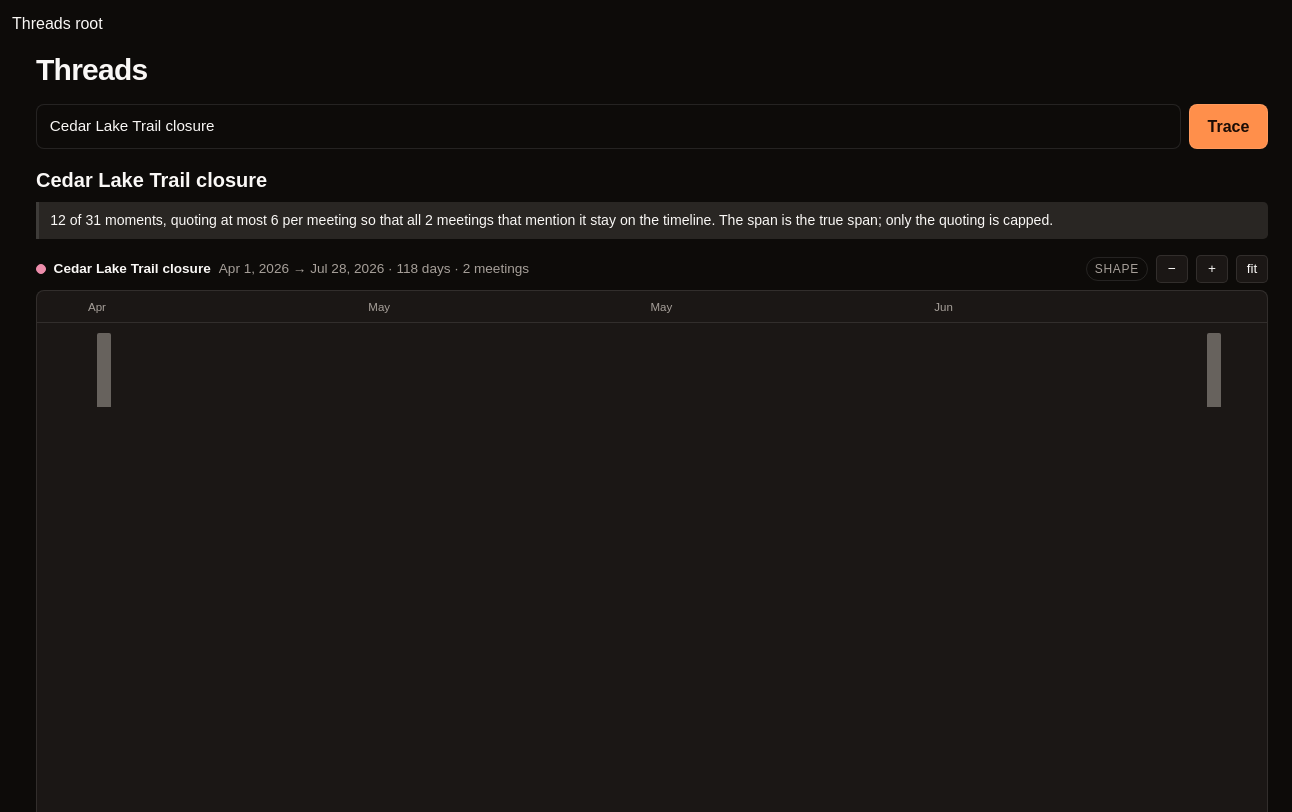
it: the two ways in › returns to the empty front door from a deep-linked subject
Expected: the text "12 of 31 moments" is shown, [50, 212, 1053, 228]
Click the link "Threads root": click(57, 24) [12, 15, 103, 32]
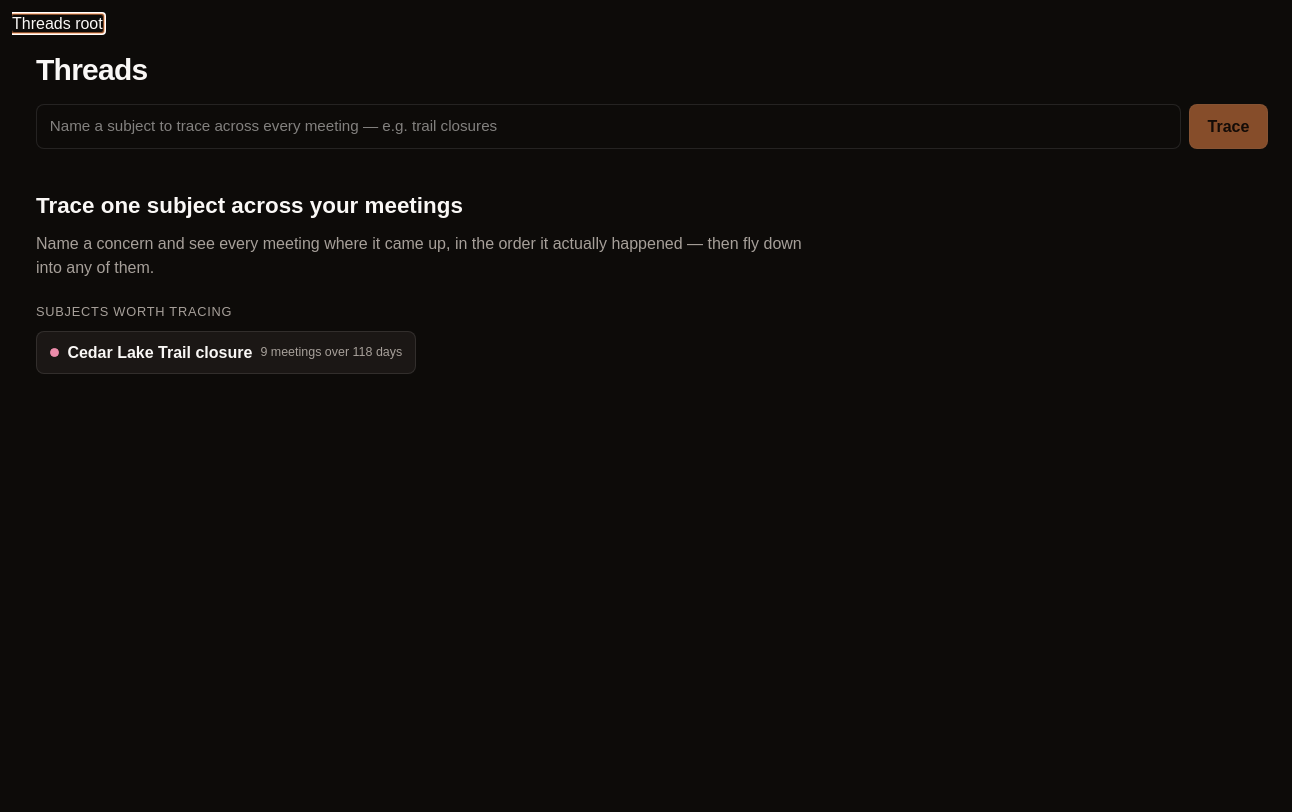
Now the heading "Trace one subject across your meetings" is shown, box [36, 193, 463, 218]
Now the field labelled "subject to trace" is empty, box [36, 104, 1181, 149]
